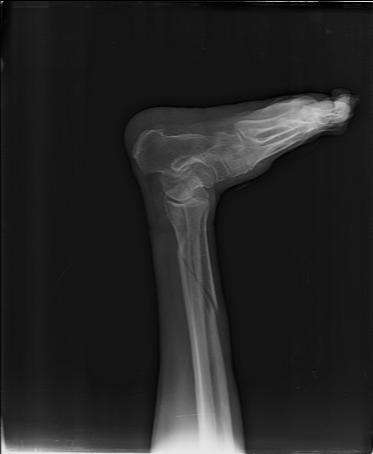fractured: (174, 228, 221, 320)
